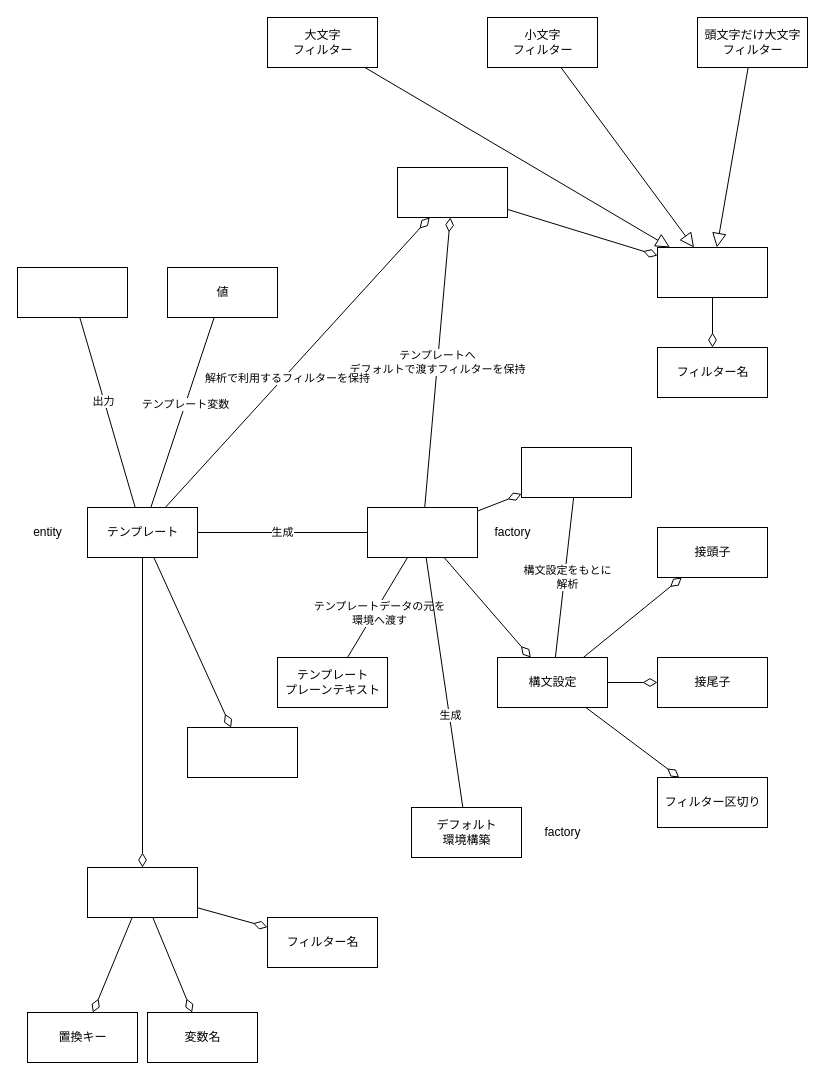
The diagram is 825 pixels wide and 1080 high, and some of its shapes have lost their labels. Here are the shapes that lost their labels. From the top down, the centre of each, then its label:
At pixel 452 192: "フィルター設定".
At pixel 72 292: "解析結果".
At pixel 712 272: "フィルター".
At pixel 576 472: "構文解析".
At pixel 422 532: "テンプレート 環境".
At pixel 242 752: "テンプレート 解析テキスト".
At pixel 142 892: "解析マッピング".
